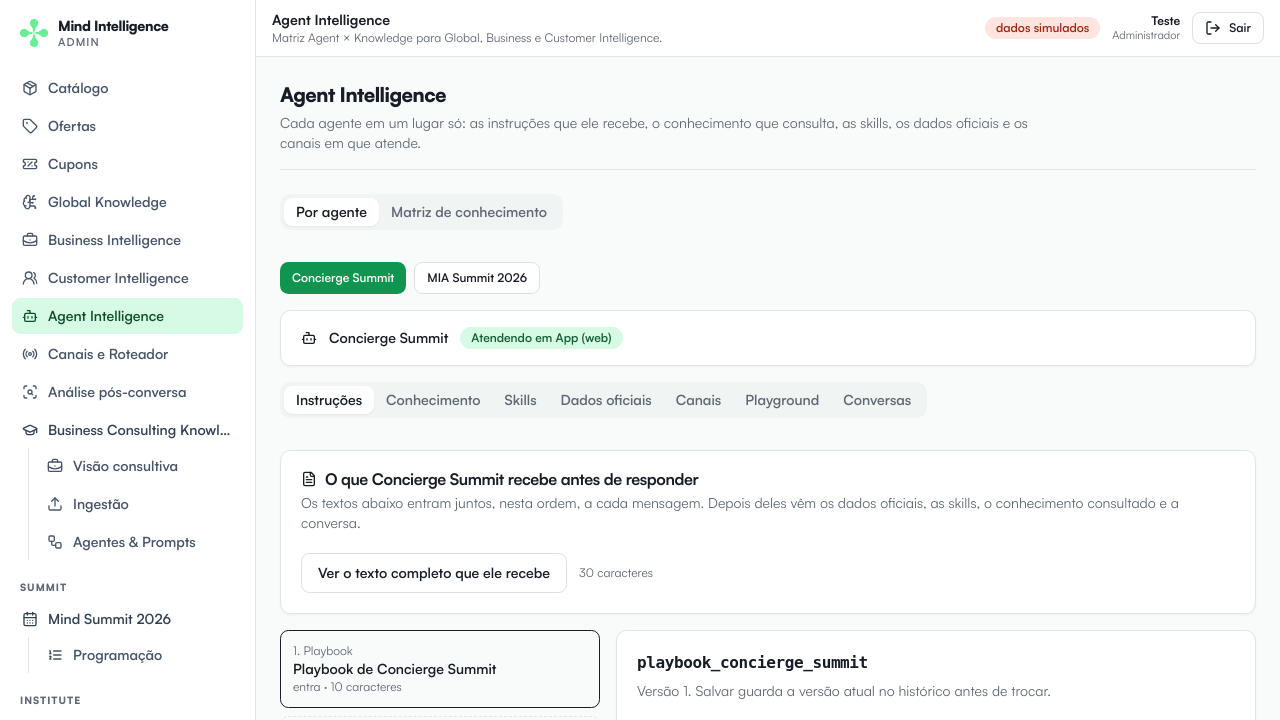
gerar embeddings do Summit › para na falha e conta o que já foi feito
Click the tab "Conhecimento".
click(433, 400)  # box [374, 386, 493, 414]
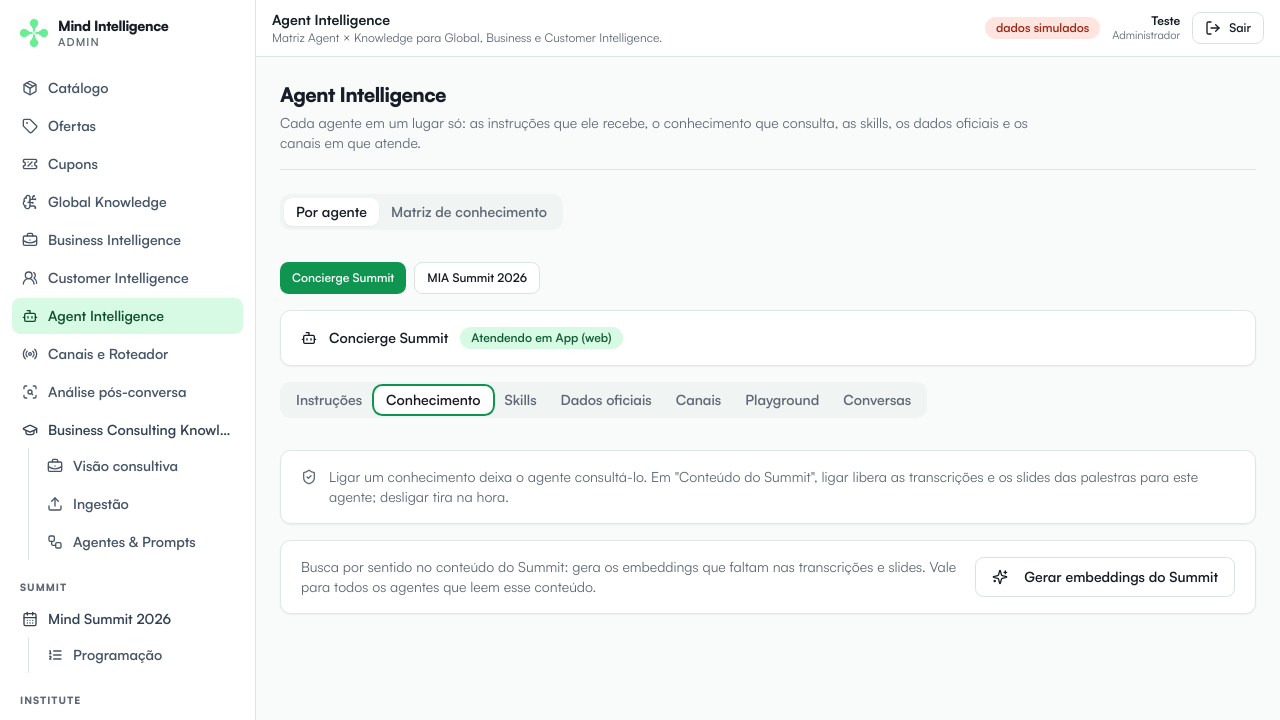
Click the button "Gerar embeddings do Summit".
click(1105, 577)  # box [975, 557, 1235, 597]
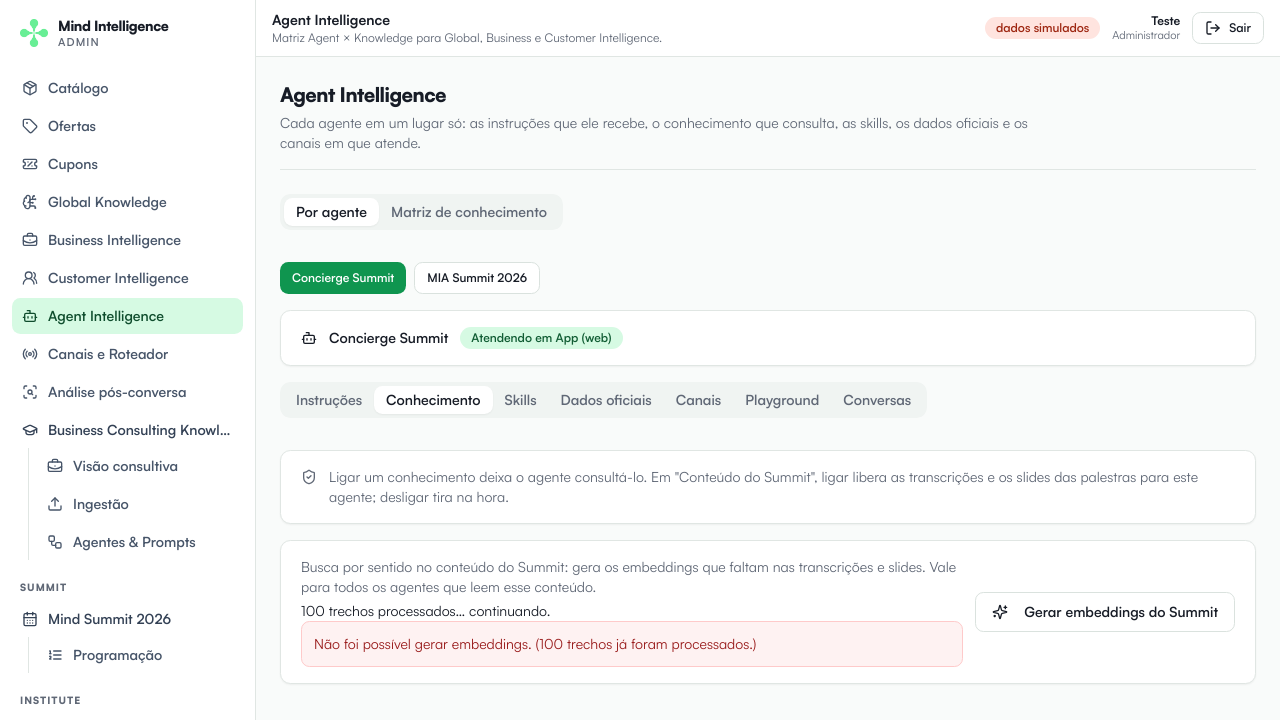
Expected: the text "Não foi possível gerar embeddings. (100 trechos já foram processados.)" is shown, [301, 621, 963, 667]
